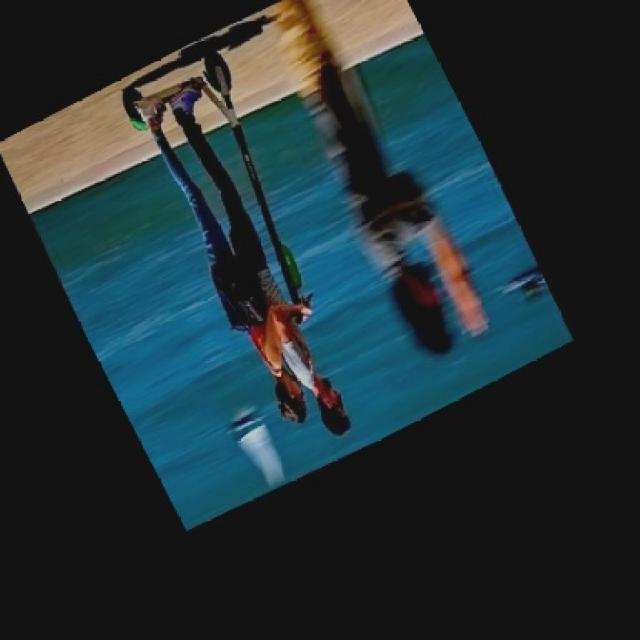bare_head: (305, 383, 354, 432), (273, 376, 310, 419)
human: (168, 86, 353, 428), (134, 100, 300, 411)
kickboard: (124, 45, 231, 142)
